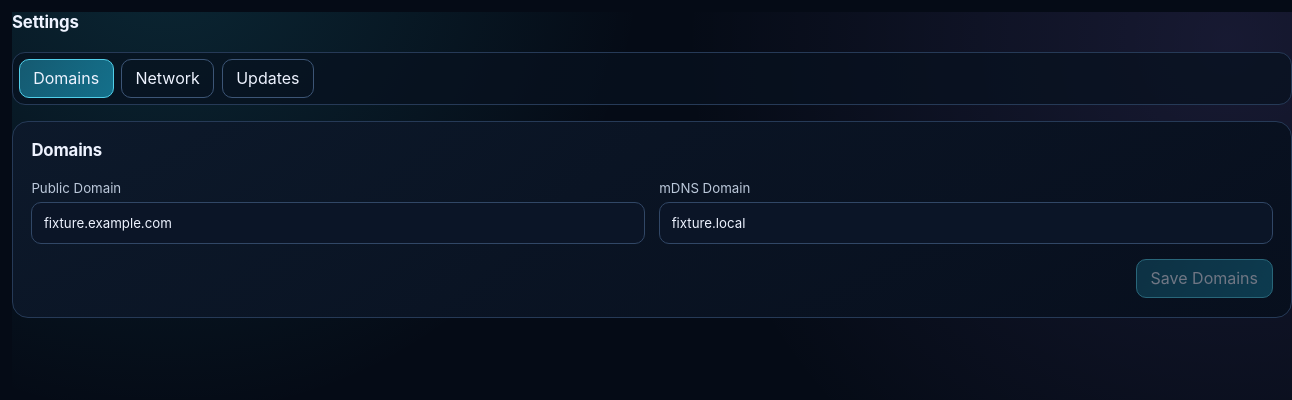
Test: Domain settings regression › a refetch keeps an edited draft but updates a pristine form
Replace the text in the field labelled "Public Domain" with "draft.example.com" at (338, 223), box [31, 202, 645, 244]
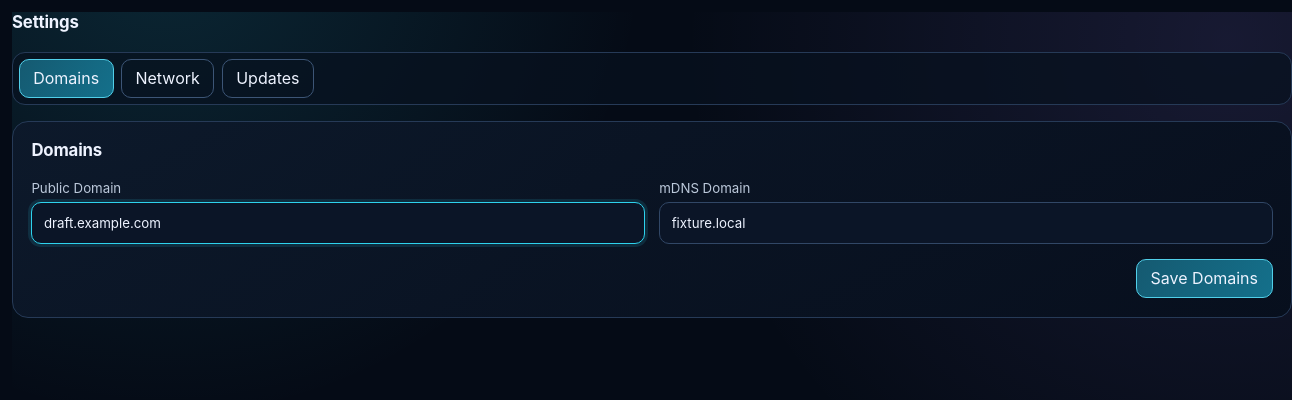
expect the button "Save Domains" is enabled: met, box [1136, 259, 1273, 298]
Replace the text in the field labelled "Public Domain" with "external.example.com" at (338, 223), box [31, 202, 645, 244]
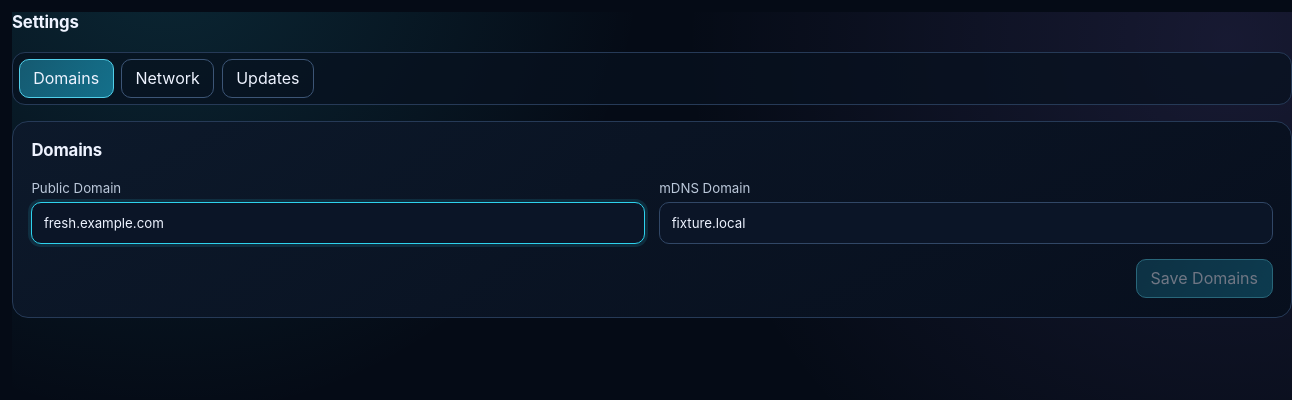
expect the button "Save Domains" is disabled: met, box [1136, 259, 1273, 298]
expect the field labelled "Public Domain" holds "fresh.example.com": met, box [31, 202, 645, 244]
